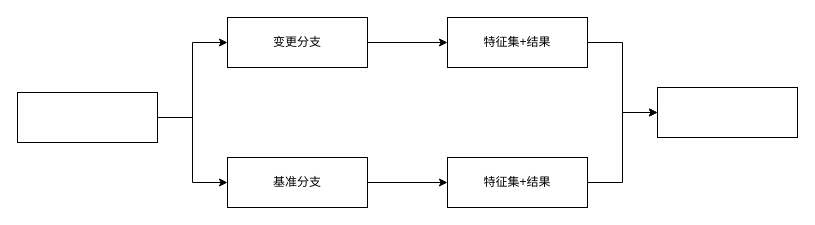
Some shapes in this 815 by 225 pixel diagram are drawn without their labels. Each missing label, with the centre of its shape:
特征用例库: pixel 87 117
评测报告 （特征覆盖率/通过率）: pixel 727 112
